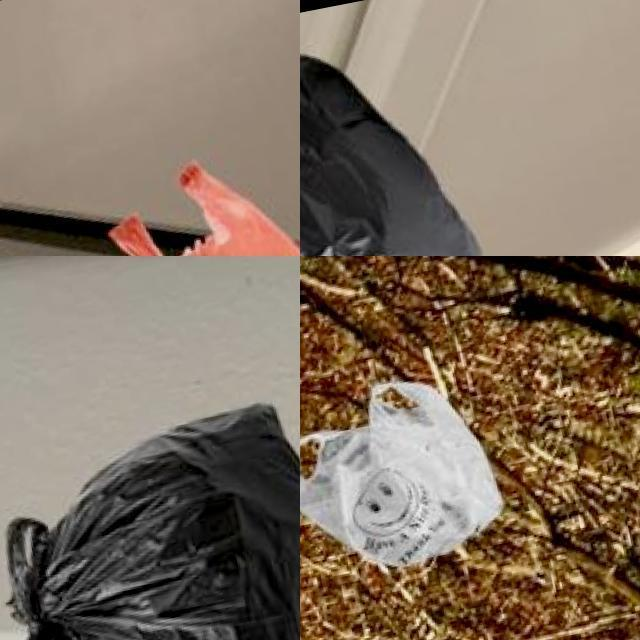waste: (0, 385, 300, 640), (300, 23, 528, 256), (300, 362, 519, 586), (104, 122, 300, 256)
